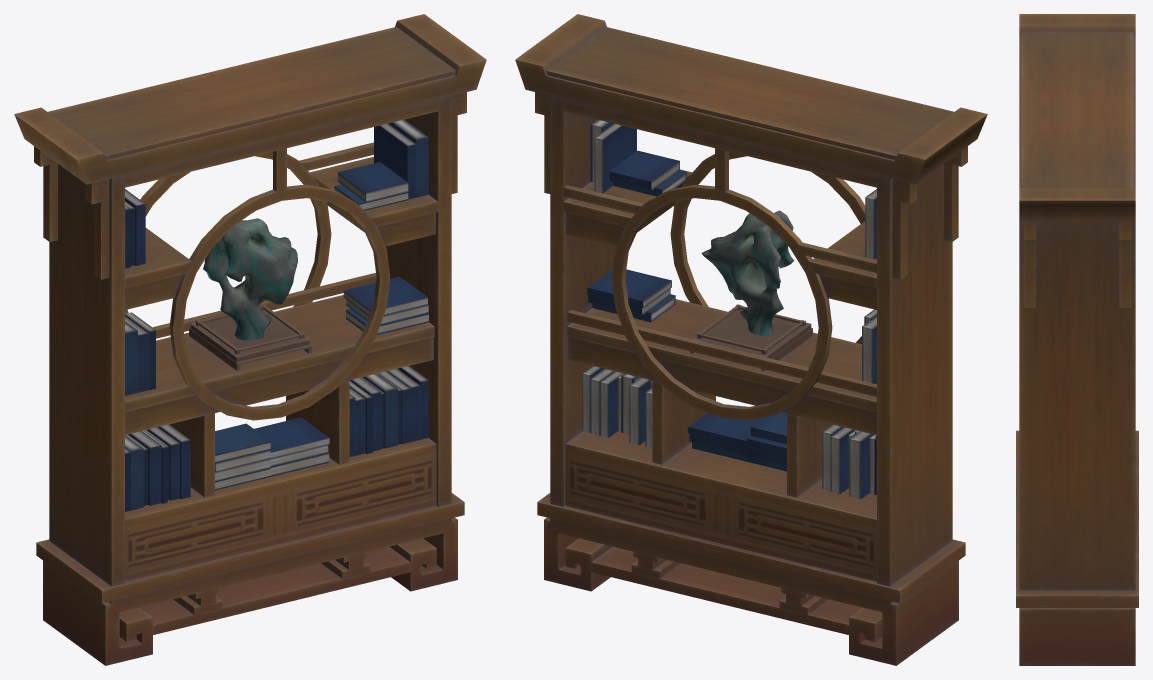
File: mt_dj_fangxingshujia_01.fbx
The picture shows the model from 3 angles, left to right: view 1: azimuth 30°, elevation 25°; view 2: azimuth 150°, elevation 25°; view 3: azimuth 270°, elevation 25°; orthographic projection. The views are drawn at different scales.
Parts seen in each view (by area): view 1: mt_dj_fangxingshujia_01; view 2: mt_dj_fangxingshujia_01; view 3: mt_dj_fangxingshujia_01.
Boxes of the visible parts, x1,y1,x2,y2 form: mt_dj_fangxingshujia_01: (14,14,486,665); mt_dj_fangxingshujia_01: (515,14,987,665); mt_dj_fangxingshujia_01: (1016,14,1138,665).
Bounding box in the file's own units: 200 × 55.62 × 239.
